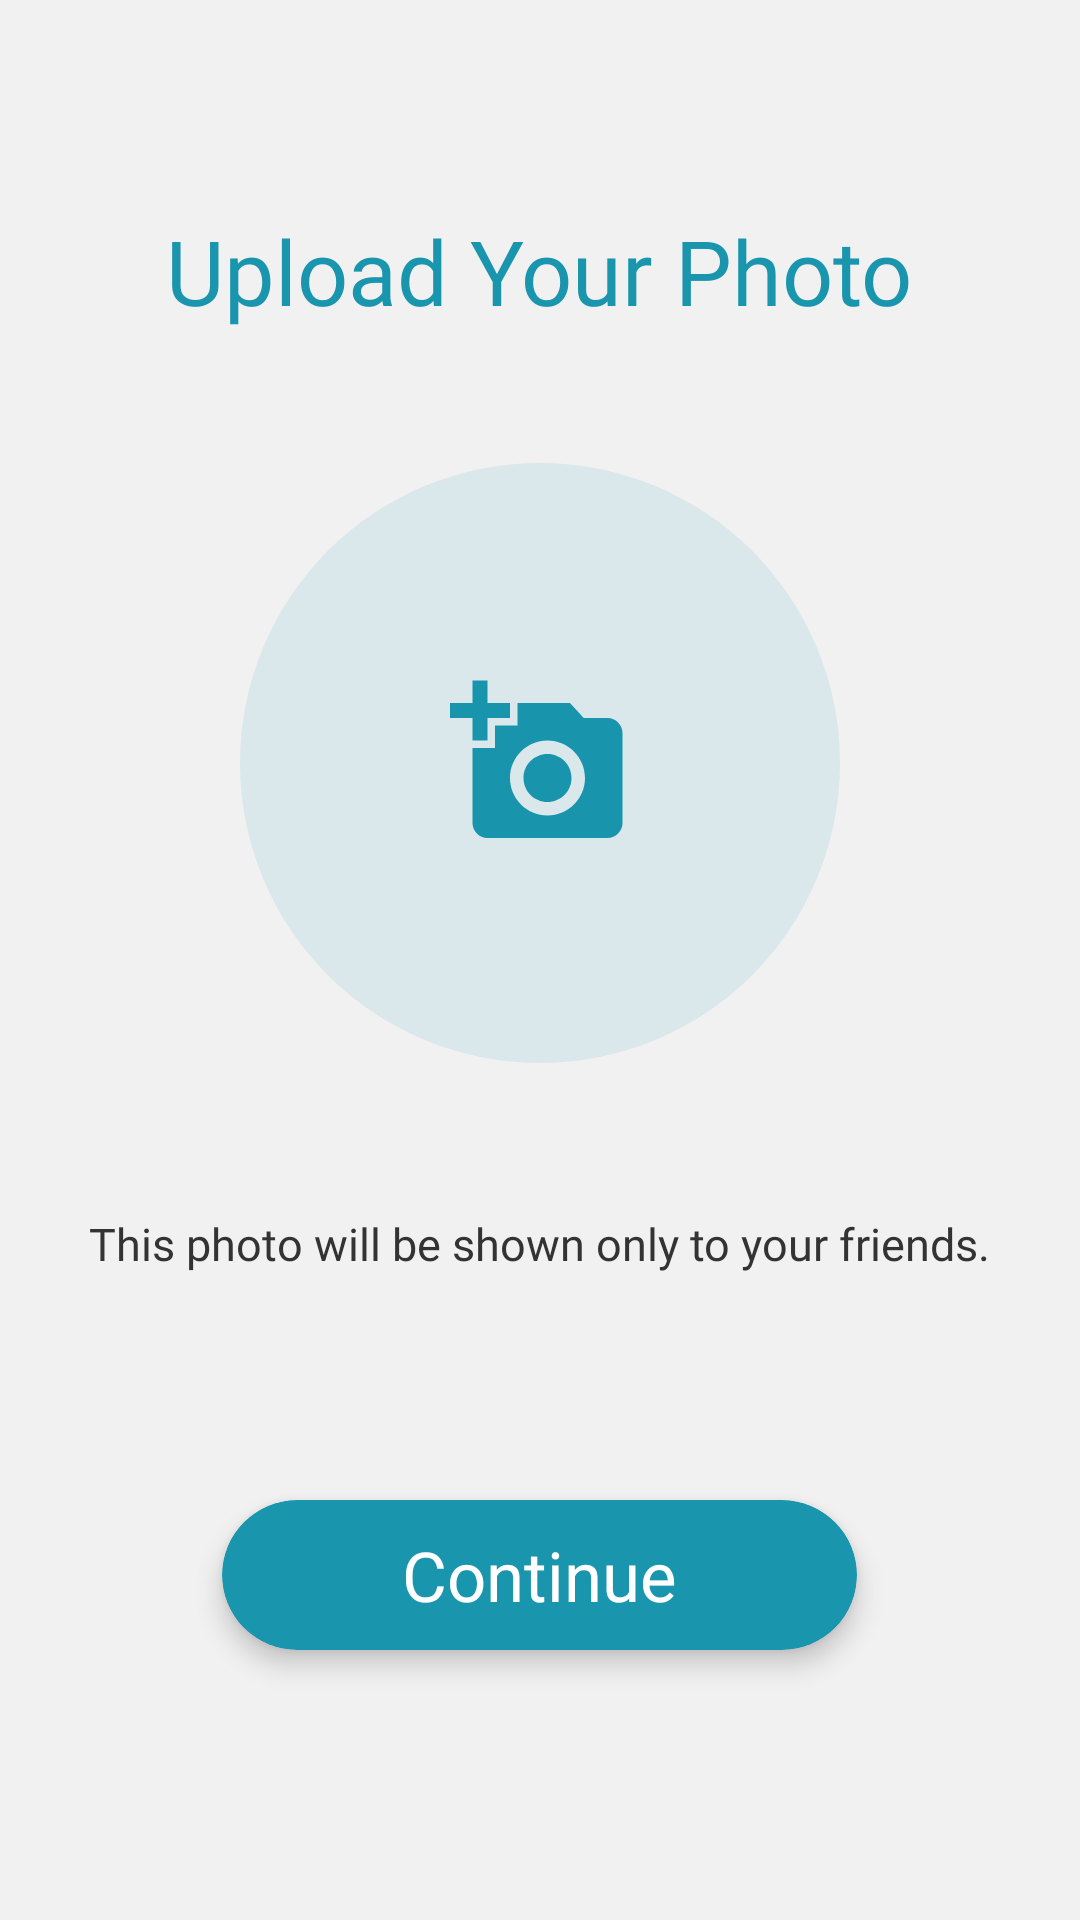

Icons on this 1080 x 1920 Android screen, each with its box as (x1, y1, x2, y2):
add photo: (450, 680, 623, 838)
